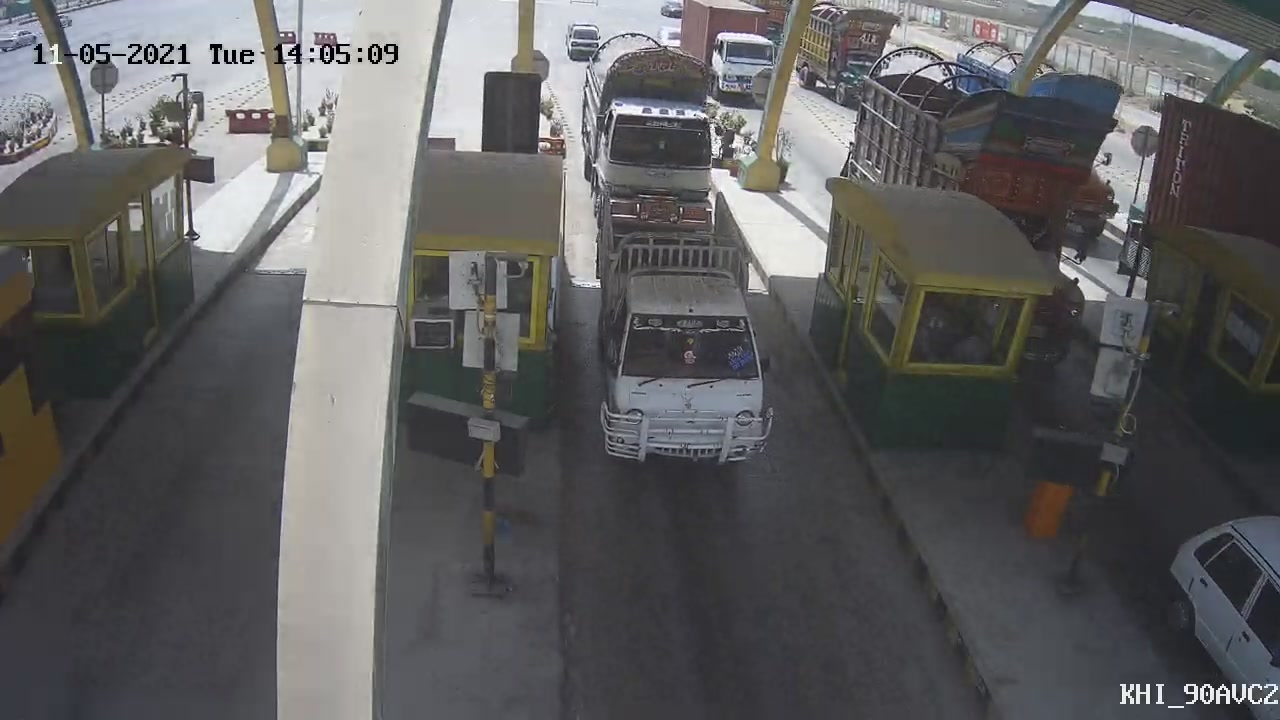F2: (584, 188, 777, 468)
